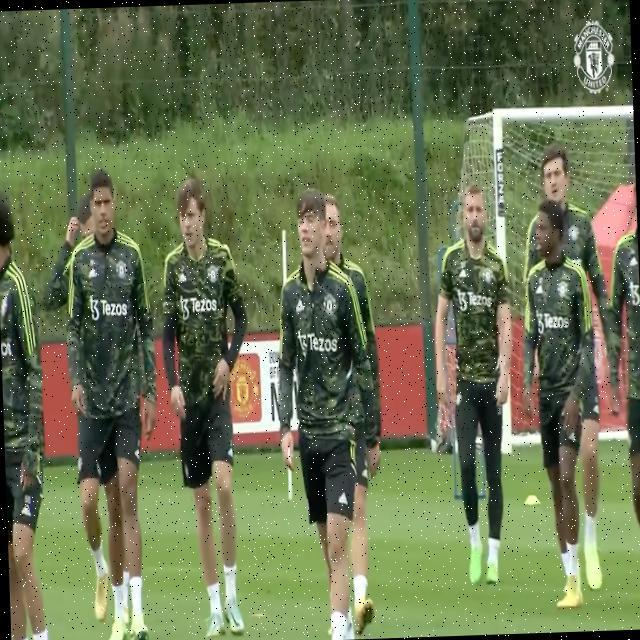Adidas: (295, 295, 305, 313), (178, 269, 189, 285), (88, 264, 99, 280), (338, 491, 349, 507), (20, 503, 32, 517), (459, 266, 468, 281)
